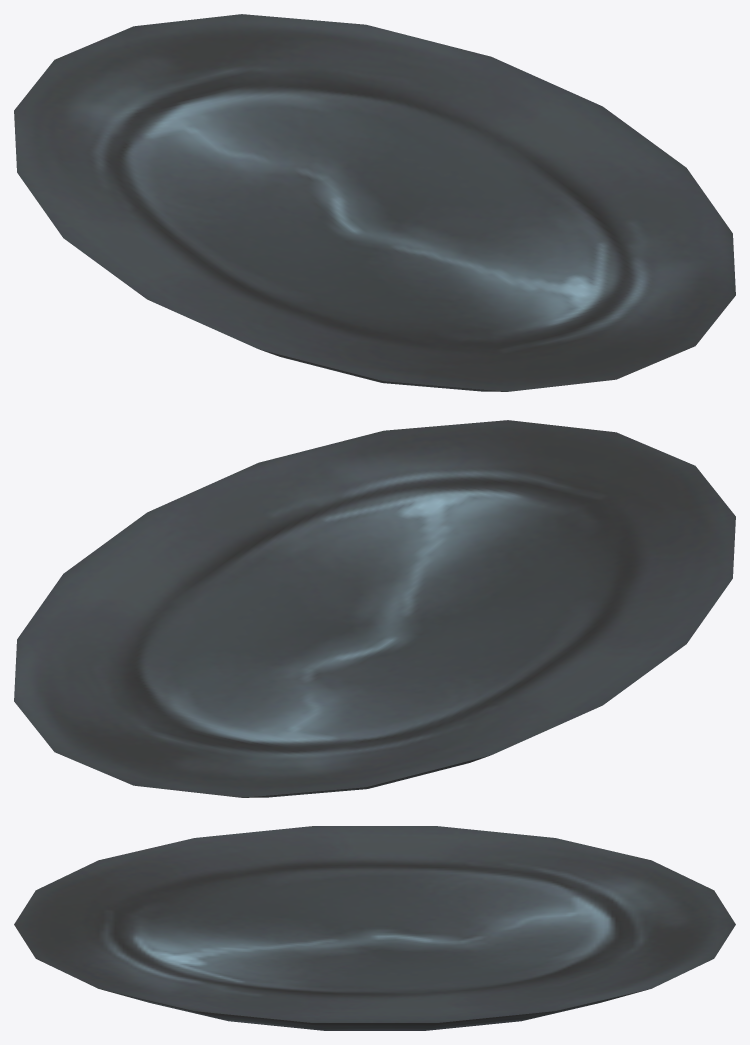
File: plate_metal3.fbx
3 views of the same model, one above another, from view 1: azimuth 30°, elevation 25°; view 2: azimuth 150°, elevation 25°; view 3: azimuth 270°, elevation 25° (orthographic). The views are drawn at different scales.
Visible parts, largest first — view 1: plate_metal3; view 2: plate_metal3; view 3: plate_metal3.
Boxes of the visible parts, x1=… form: plate_metal3: x1=14, y1=14, x2=735, y2=391; plate_metal3: x1=14, y1=420, x2=735, y2=797; plate_metal3: x1=14, y1=826, x2=735, y2=1030.
Bounding box in the file's own units: 46.11 × 2.86 × 71.46.
